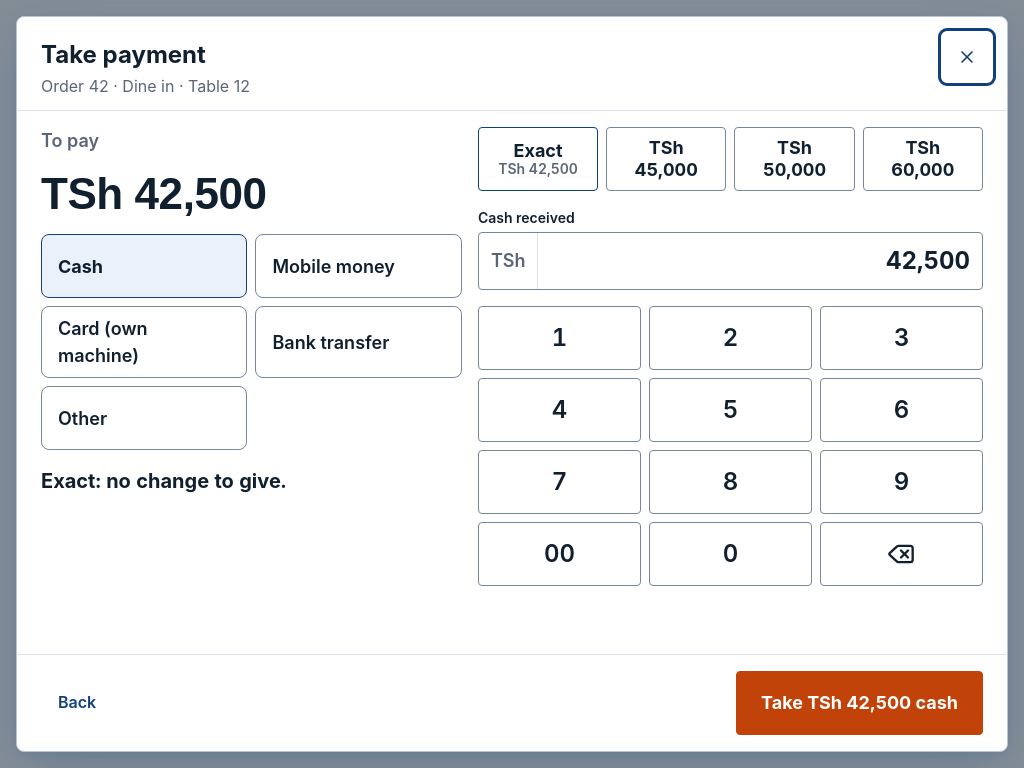
it: PaySheet › cash: less than owed is a part payment, and says what is still to pay
Type "20000" into the field with test id "amount-received" at {"x": 760, "y": 261}, box top-left (538, 233), bottom-right (982, 289)
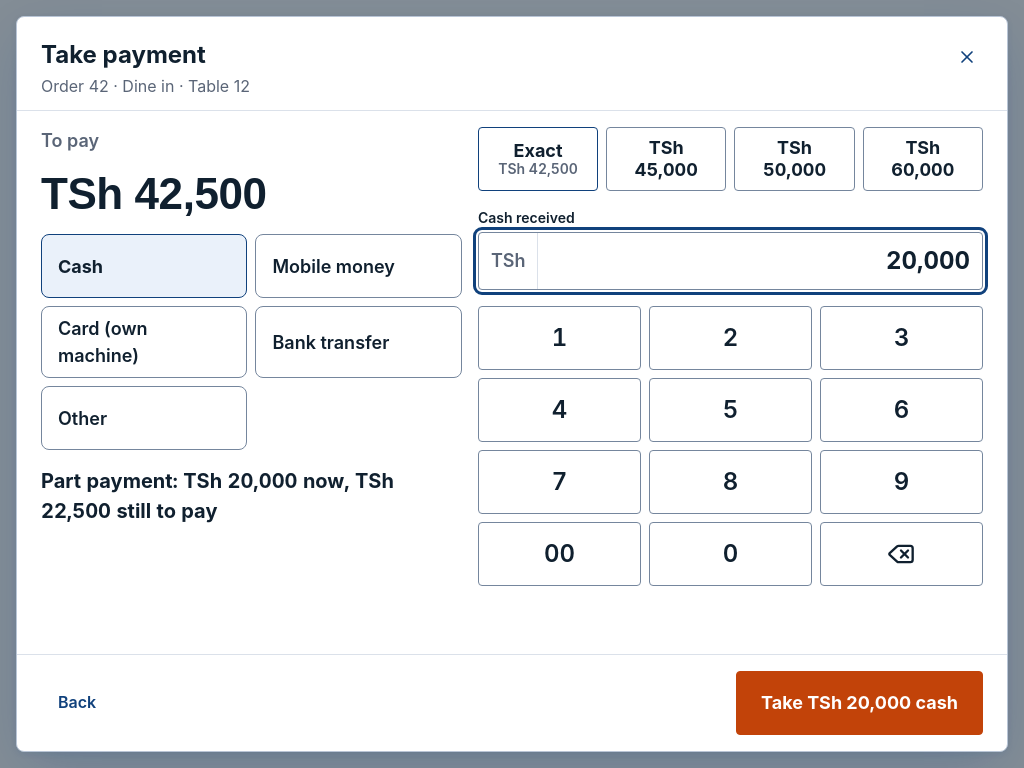
Now the text with test id "change-due" reads "Part payment: TSh 20,000 now, TSh 22,500 still to pay", box top-left (41, 469), bottom-right (394, 523)
Now the button with test id "confirm-settle" reads "Take TSh 20,000 cash"
Click the button with test id "confirm-settle" at {"x": 860, "y": 703}, box top-left (736, 671), bottom-right (983, 735)
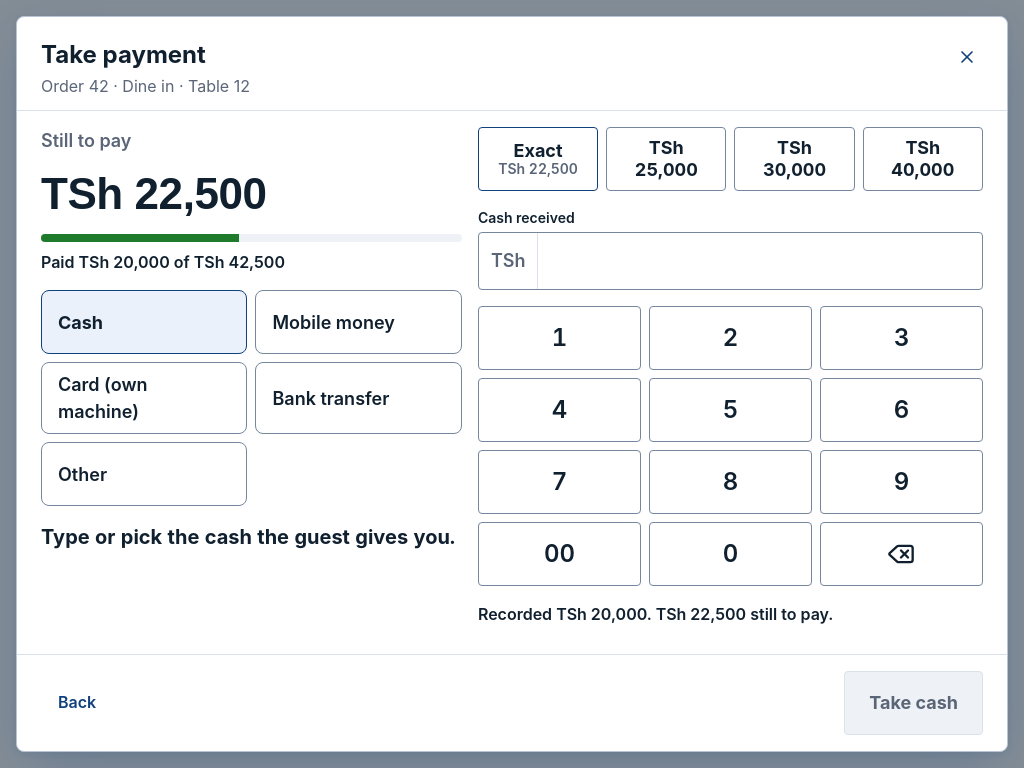
Now the text with test id "amount-due" reads "TSh 22,500", box top-left (41, 169), bottom-right (266, 218)
Now the message with test id "tender-recorded" reads "Recorded TSh 20,000. TSh 22,500 still to pay.", box top-left (478, 604), bottom-right (833, 624)
